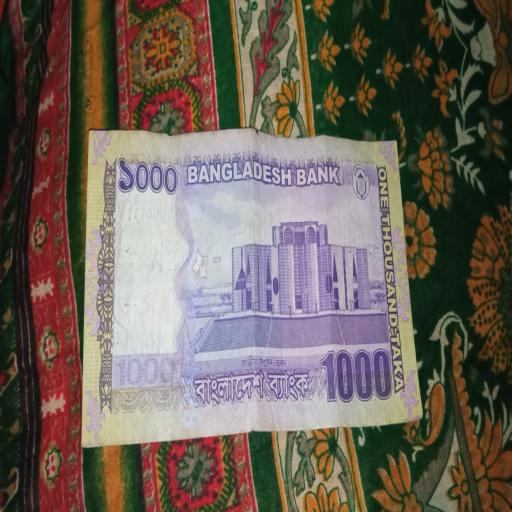1000taka: (84, 132, 427, 440)
